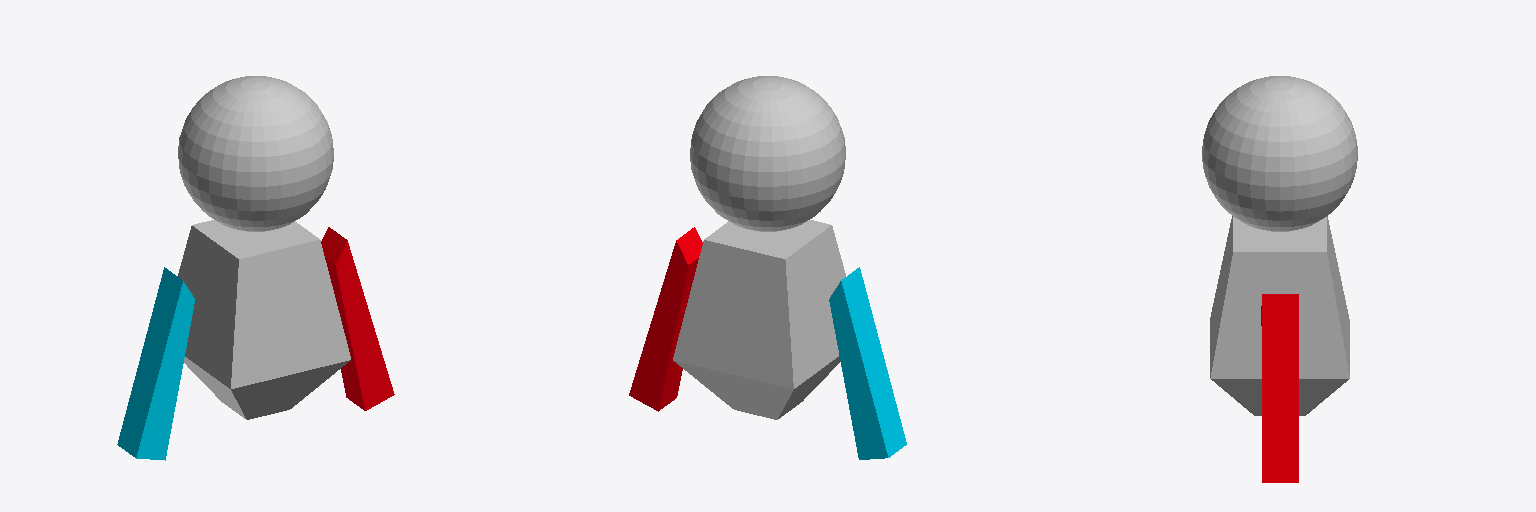
The picture shows the model from 3 angles: view 1: azimuth 30°, elevation 25°; view 2: azimuth 150°, elevation 25°; view 3: azimuth 270°, elevation 25°; orthographic projection.
Visible parts, largest first — view 1: 立方体; view 2: 立方体; view 3: 立方体.
Boxes of the visible parts, x1,y1,x2,y2 form: 立方体: [117, 76, 394, 460]; 立方体: [629, 76, 906, 459]; 立方体: [1202, 76, 1357, 482].
Bounding box in the file's own units: 3.13 × 3.99 × 1.64.
Materials: 3 (2 with a texture image).